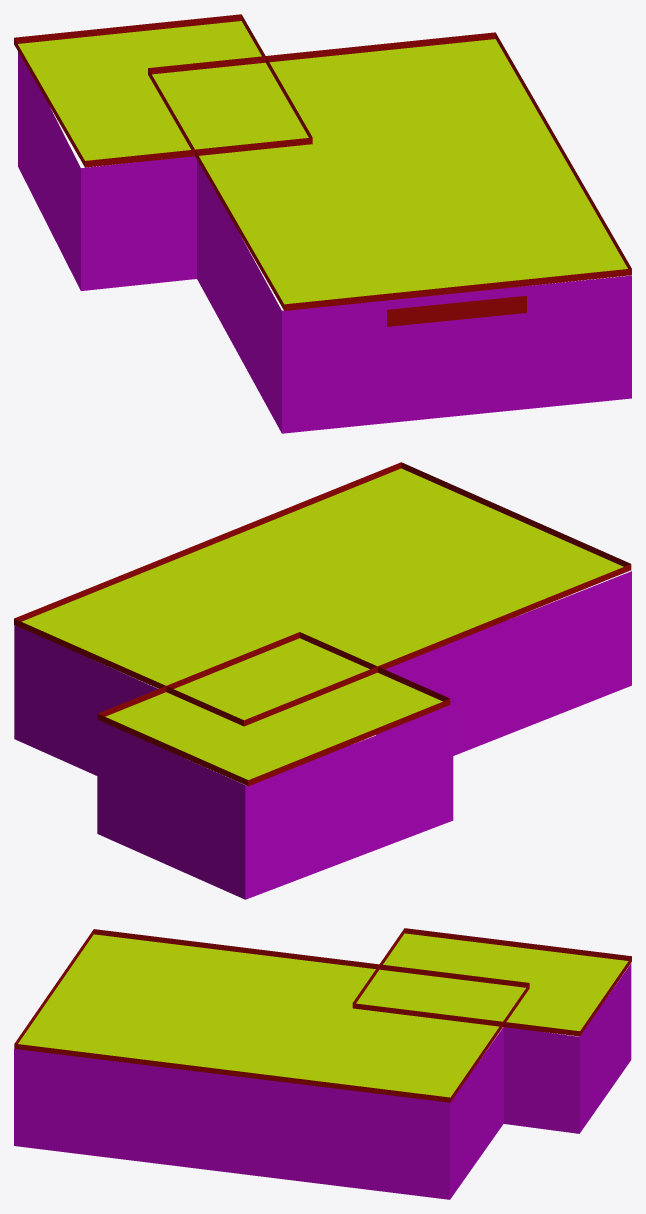
File: ssv_82.glb
The picture shows the model from 3 angles, top to bottom: view 1: azimuth 30°, elevation 25°; view 2: azimuth 150°, elevation 25°; view 3: azimuth 270°, elevation 25°; orthographic projection. The views are drawn at different scales.
Parts seen in each view (by area): view 1: ssv_82; view 2: ssv_82; view 3: ssv_82.
Part boxes in pixels (box(x1,y1,x2,y2)): ssv_82: box(14, 14, 631, 433); ssv_82: box(14, 462, 631, 899); ssv_82: box(14, 928, 631, 1199).
Size of the model in its own units: 24.29 by 6.79 by 37.14.
